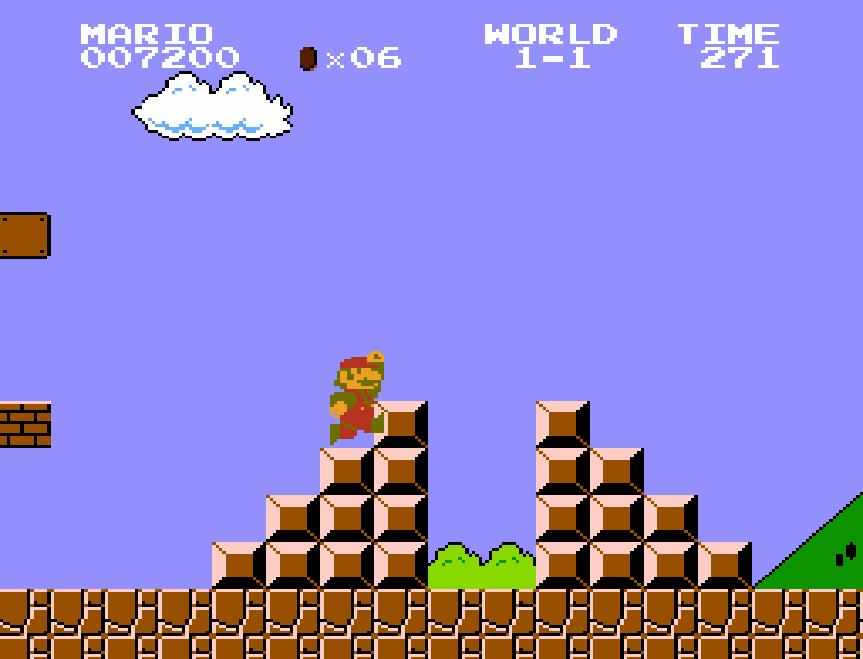big_mario: (332, 348, 390, 446)
